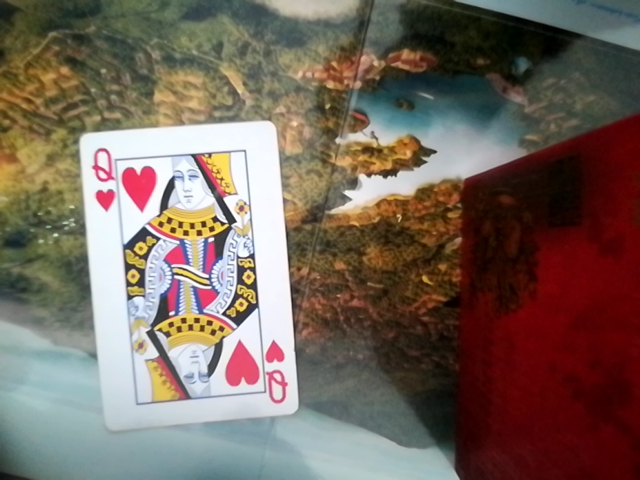hx q: (65, 122, 300, 430)
